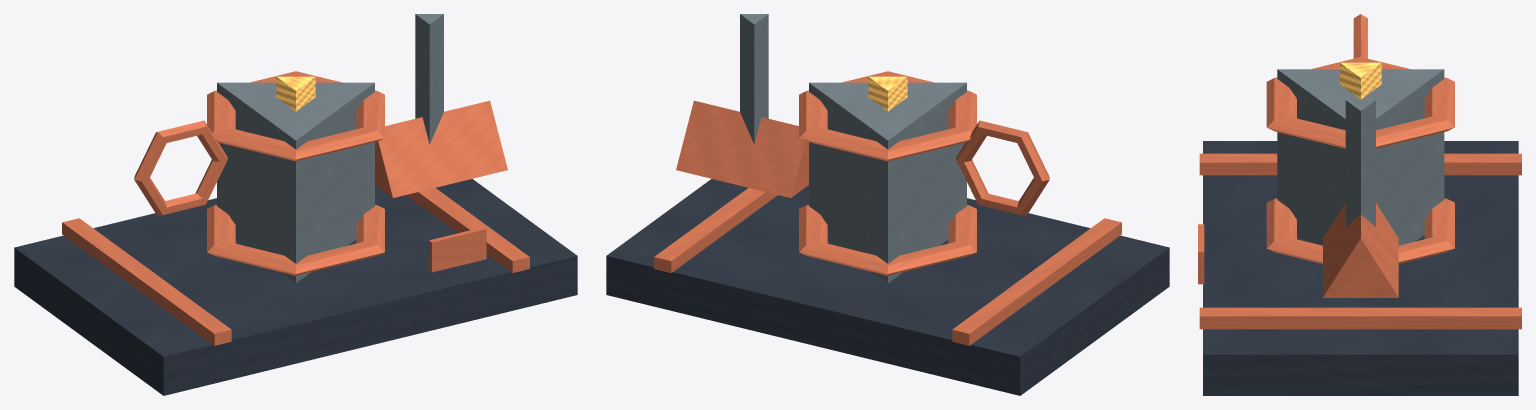
Rendered from atlas100-s025-a02.lod2.glb.
The picture shows the model from 3 angles, left to right: view 1: azimuth 30°, elevation 25°; view 2: azimuth 150°, elevation 25°; view 3: azimuth 270°, elevation 25°; orthographic projection. The views are drawn at different scales.
Parts seen in each view (by area): view 1: atlas100-s025-a02:part-000, atlas100-s025-a02:part-003, atlas100-s025-a02:part-007, atlas100-s025-a02:part-005, atlas100-s025-a02:part-004, atlas100-s025-a02:part-001, atlas100-s025-a02:part-009, atlas100-s025-a02:part-008, atlas100-s025-a02:part-002, atlas100-s025-a02:part-010, atlas100-s025-a02:part-006; view 2: atlas100-s025-a02:part-000, atlas100-s025-a02:part-003, atlas100-s025-a02:part-007, atlas100-s025-a02:part-005, atlas100-s025-a02:part-004, atlas100-s025-a02:part-001, atlas100-s025-a02:part-009, atlas100-s025-a02:part-008, atlas100-s025-a02:part-002, atlas100-s025-a02:part-006; view 3: atlas100-s025-a02:part-000, atlas100-s025-a02:part-003, atlas100-s025-a02:part-002, atlas100-s025-a02:part-007, atlas100-s025-a02:part-005, atlas100-s025-a02:part-004, atlas100-s025-a02:part-008, atlas100-s025-a02:part-001, atlas100-s025-a02:part-006, atlas100-s025-a02:part-009, atlas100-s025-a02:part-010.
Part boxes in pixels (x1=…): atlas100-s025-a02:part-000: x1=14, y1=179, x2=577, y2=395; atlas100-s025-a02:part-003: x1=217, y1=82, x2=374, y2=282; atlas100-s025-a02:part-007: x1=375, y1=100, x2=507, y2=197; atlas100-s025-a02:part-005: x1=207, y1=71, x2=384, y2=161; atlas100-s025-a02:part-004: x1=207, y1=205, x2=384, y2=275; atlas100-s025-a02:part-001: x1=62, y1=218, x2=231, y2=345; atlas100-s025-a02:part-009: x1=134, y1=120, x2=227, y2=216; atlas100-s025-a02:part-008: x1=415, y1=14, x2=443, y2=144; atlas100-s025-a02:part-002: x1=406, y1=188, x2=529, y2=272; atlas100-s025-a02:part-010: x1=429, y1=227, x2=486, y2=272; atlas100-s025-a02:part-006: x1=276, y1=76, x2=315, y2=111; atlas100-s025-a02:part-000: x1=606, y1=179, x2=1169, y2=395; atlas100-s025-a02:part-003: x1=809, y1=82, x2=966, y2=282; atlas100-s025-a02:part-007: x1=676, y1=100, x2=808, y2=197; atlas100-s025-a02:part-005: x1=799, y1=71, x2=976, y2=161; atlas100-s025-a02:part-004: x1=799, y1=205, x2=976, y2=275; atlas100-s025-a02:part-001: x1=952, y1=218, x2=1121, y2=345; atlas100-s025-a02:part-009: x1=956, y1=120, x2=1049, y2=216; atlas100-s025-a02:part-008: x1=740, y1=14, x2=768, y2=144; atlas100-s025-a02:part-002: x1=654, y1=188, x2=777, y2=272; atlas100-s025-a02:part-006: x1=868, y1=76, x2=907, y2=111; atlas100-s025-a02:part-000: x1=1203, y1=141, x2=1518, y2=395; atlas100-s025-a02:part-003: x1=1277, y1=69, x2=1444, y2=245; atlas100-s025-a02:part-002: x1=1199, y1=307, x2=1521, y2=329; atlas100-s025-a02:part-007: x1=1323, y1=203, x2=1398, y2=297; atlas100-s025-a02:part-005: x1=1266, y1=57, x2=1454, y2=148; atlas100-s025-a02:part-004: x1=1266, y1=198, x2=1454, y2=263; atlas100-s025-a02:part-008: x1=1345, y1=100, x2=1375, y2=226; atlas100-s025-a02:part-001: x1=1199, y1=153, x2=1521, y2=175; atlas100-s025-a02:part-006: x1=1340, y1=62, x2=1381, y2=99; atlas100-s025-a02:part-009: x1=1353, y1=14, x2=1367, y2=58; atlas100-s025-a02:part-010: x1=1198, y1=224, x2=1204, y2=284.
Size of the model in its own units: 2.88 by 1.6 by 1.85.
4 materials, 4 textured.
